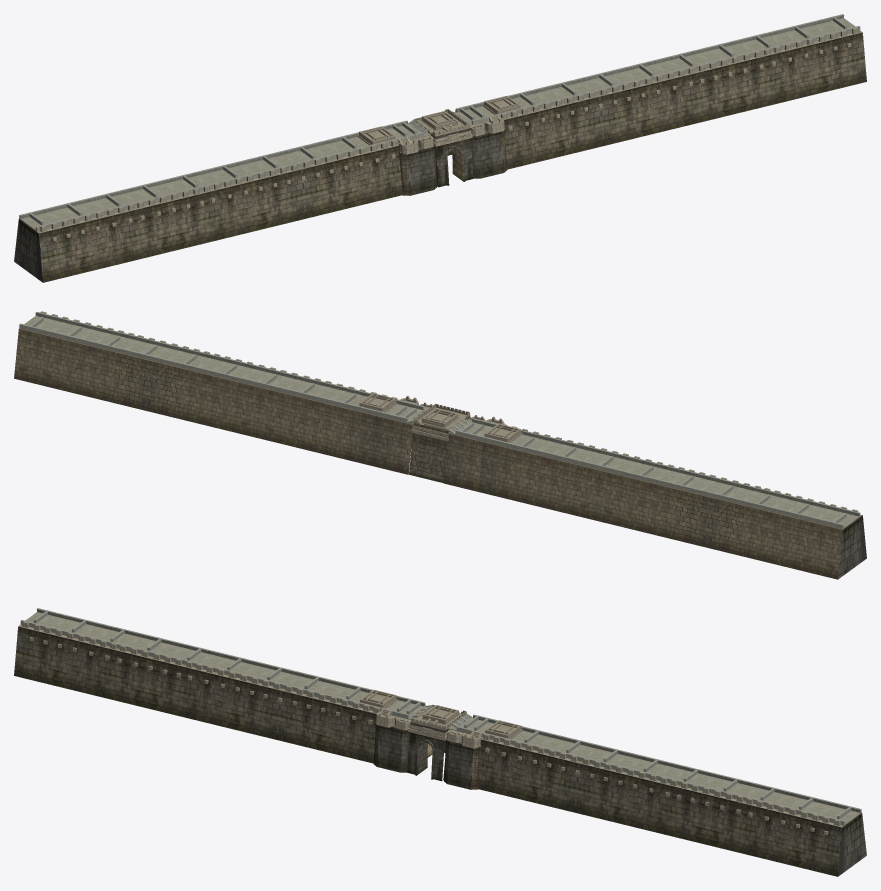
Rendered from HZBQ_ChengQiang_LV01(1).fbx.
3 renders of one model, top to bottom at view 1: azimuth 30°, elevation 25°; view 2: azimuth 150°, elevation 25°; view 3: azimuth 330°, elevation 25°, orthographic.
Parts seen in each view (by area): view 1: HZBQ_ChengQiang_015, HZBQ_ChengQiang_016, HZBQ_ChengQiang_011, HZBQ_ChengQiang_09, HZBQ_ChengQiang_06, HZBQ_ChengQiang_010, HZBQ_ChengQiang_05, HZBQ_ChengQiang_08, HZBQ_ChengQiang_07; view 2: HZBQ_ChengQiang_015, HZBQ_ChengQiang_016, HZBQ_ChengQiang_017, HZBQ_ChengQiang_010, HZBQ_ChengQiang_05, HZBQ_ChengQiang_09, HZBQ_ChengQiang_06; view 3: HZBQ_ChengQiang_016, HZBQ_ChengQiang_015, HZBQ_ChengQiang_011, HZBQ_ChengQiang_06, HZBQ_ChengQiang_09, HZBQ_ChengQiang_05, HZBQ_ChengQiang_010, HZBQ_ChengQiang_07, HZBQ_ChengQiang_08.
Boxes of the visible parts, left/top/right/bottom form: HZBQ_ChengQiang_015: left=14, top=145, right=402, bottom=282; HZBQ_ChengQiang_016: left=503, top=30, right=866, bottom=169; HZBQ_ChengQiang_011: left=398, top=113, right=507, bottom=195; HZBQ_ChengQiang_09: left=19, top=123, right=430, bottom=231; HZBQ_ChengQiang_06: left=454, top=18, right=859, bottom=125; HZBQ_ChengQiang_010: left=19, top=119, right=428, bottom=230; HZBQ_ChengQiang_05: left=452, top=14, right=860, bottom=124; HZBQ_ChengQiang_08: left=40, top=140, right=397, bottom=241; HZBQ_ChengQiang_07: left=501, top=27, right=858, bottom=130; HZBQ_ChengQiang_015: left=478, top=442, right=866, bottom=579; HZBQ_ChengQiang_016: left=14, top=328, right=378, bottom=465; HZBQ_ChengQiang_017: left=373, top=416, right=483, bottom=491; HZBQ_ChengQiang_010: left=449, top=418, right=860, bottom=528; HZBQ_ChengQiang_05: left=19, top=312, right=424, bottom=423; HZBQ_ChengQiang_09: left=448, top=419, right=859, bottom=529; HZBQ_ChengQiang_06: left=19, top=316, right=426, bottom=424; HZBQ_ChengQiang_016: left=478, top=739, right=866, bottom=876; HZBQ_ChengQiang_015: left=14, top=624, right=376, bottom=763; HZBQ_ChengQiang_011: left=373, top=707, right=482, bottom=789; HZBQ_ChengQiang_06: left=448, top=717, right=861, bottom=825; HZBQ_ChengQiang_09: left=21, top=612, right=426, bottom=719; HZBQ_ChengQiang_05: left=452, top=713, right=861, bottom=824; HZBQ_ChengQiang_010: left=20, top=608, right=432, bottom=718; HZBQ_ChengQiang_07: left=483, top=734, right=840, bottom=835; HZBQ_ChengQiang_08: left=22, top=621, right=379, bottom=724.
Size of the model in its own units: 8833 by 546 by 580.
Materials: 10 (10 with a texture image).
